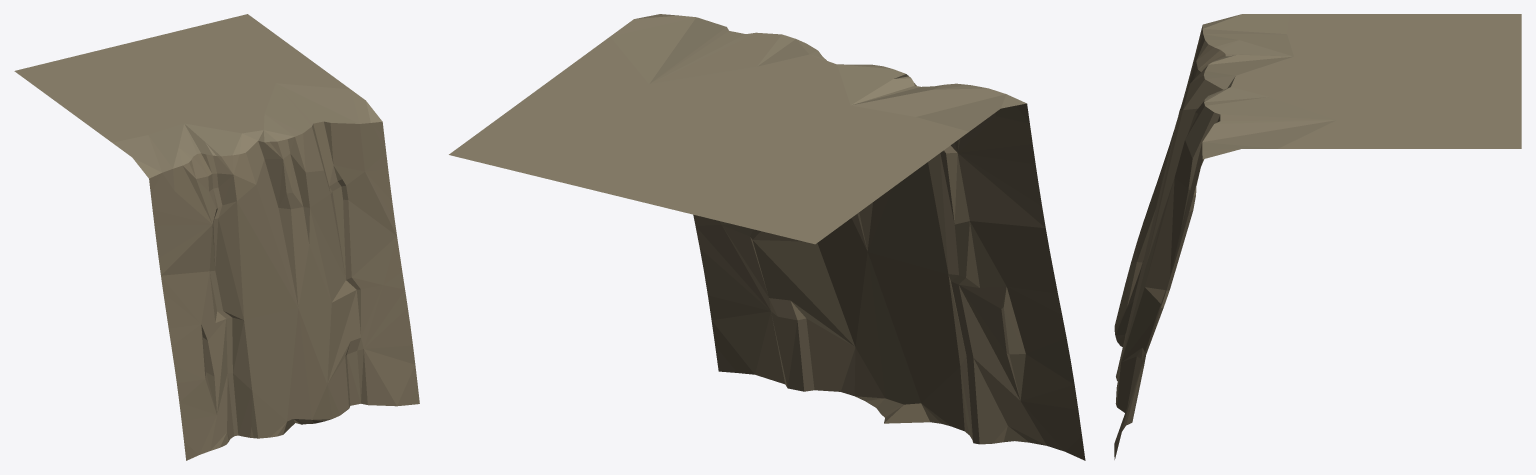
The model's file is BG_rock_BigWall_05.fbx.
3 views of the same model, side by side, from view 1: azimuth 30°, elevation 25°; view 2: azimuth 150°, elevation 25°; view 3: azimuth 270°, elevation 25° (orthographic). The views are drawn at different scales.
Parts seen in each view (by area): view 1: BG_rock_BigWall_05; view 2: BG_rock_BigWall_05; view 3: BG_rock_BigWall_05.
Boxes of the visible parts, x1=… form: BG_rock_BigWall_05: x1=14, y1=14, x2=419, y2=460; BG_rock_BigWall_05: x1=449, y1=14, x2=1085, y2=460; BG_rock_BigWall_05: x1=1114, y1=14, x2=1521, y2=459.
Bounding box in the file's own units: 80 × 86.36 × 102.
Materials: 1 (1 with a texture image).
